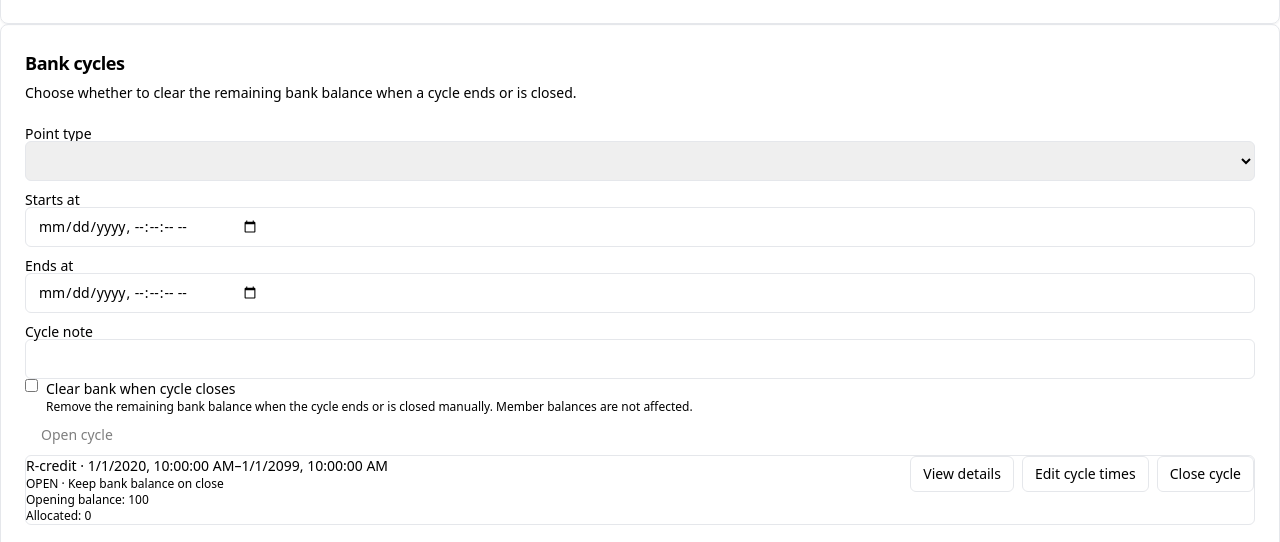
Scenario: shows an inline error when nothing changed
(page scrolled)
Click the button "Edit cycle times" at (1085, 474), box [1022,456,1149,492]
(page scrolled)
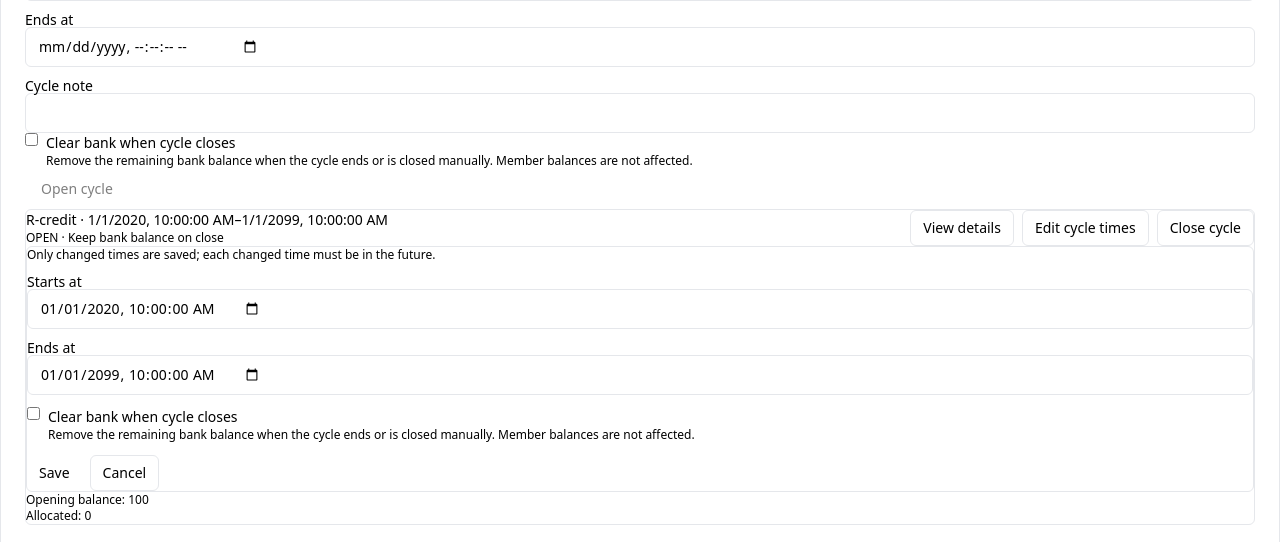
Click the button "Save" at (54, 473), box [27,455,82,491]
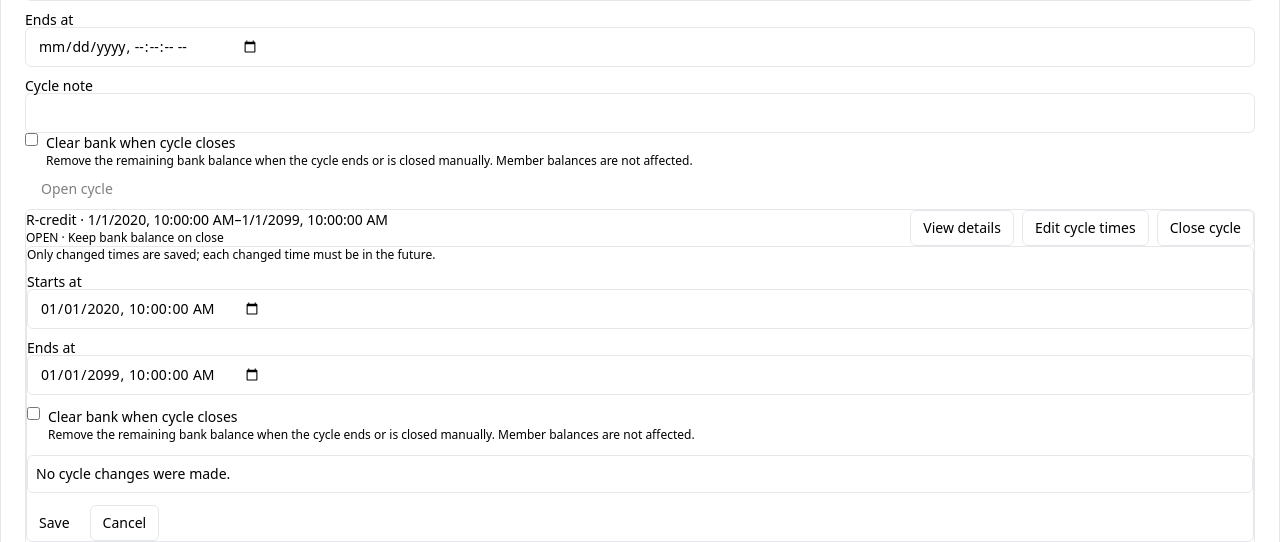
Check: the message reads "No cycle changes were made.", box [36,464,230,483]
